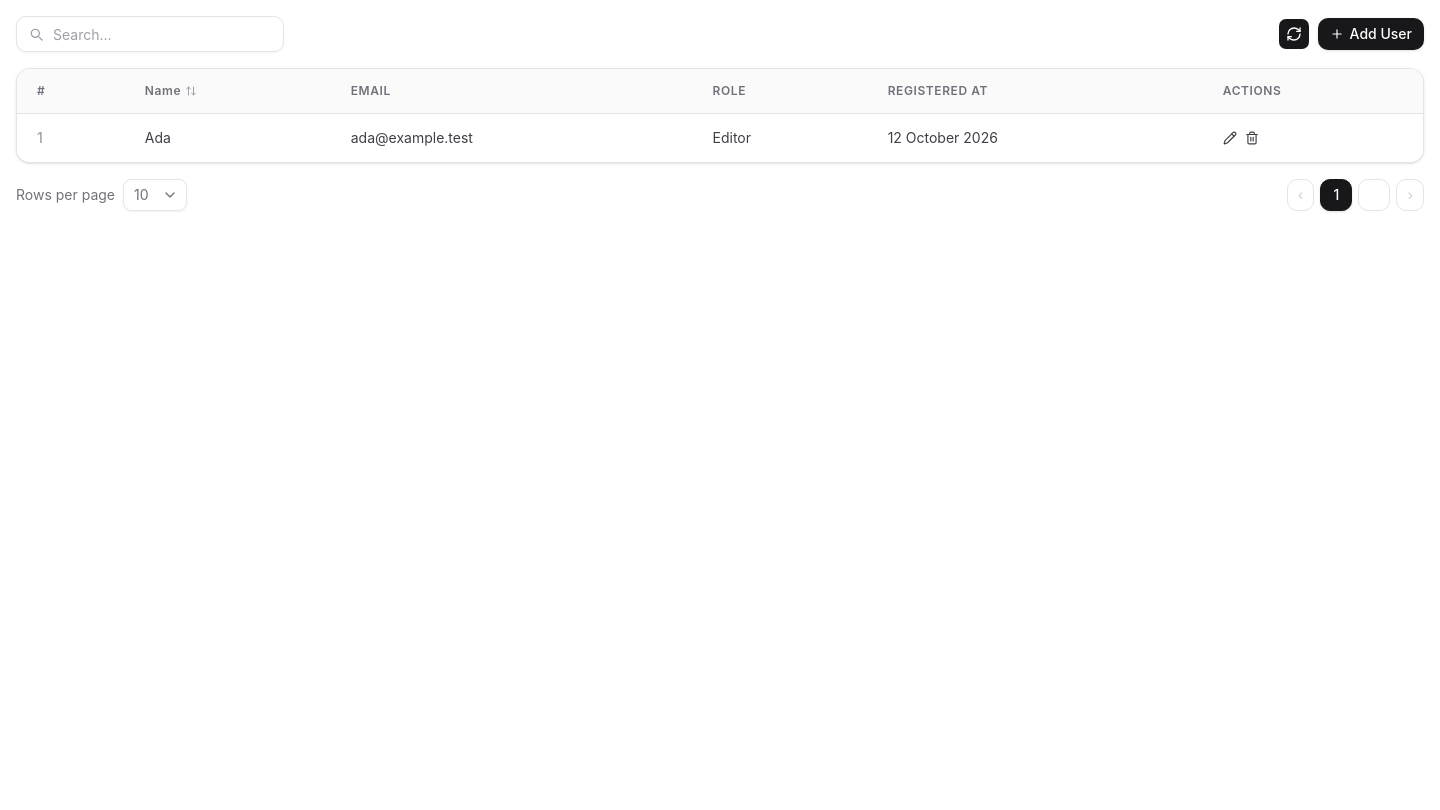
it: ViewUsers › deletes by slug, closes the dialog and reloads the list
Click the button named "Delete user" at (1252, 138), box [1245,131,1259,145]
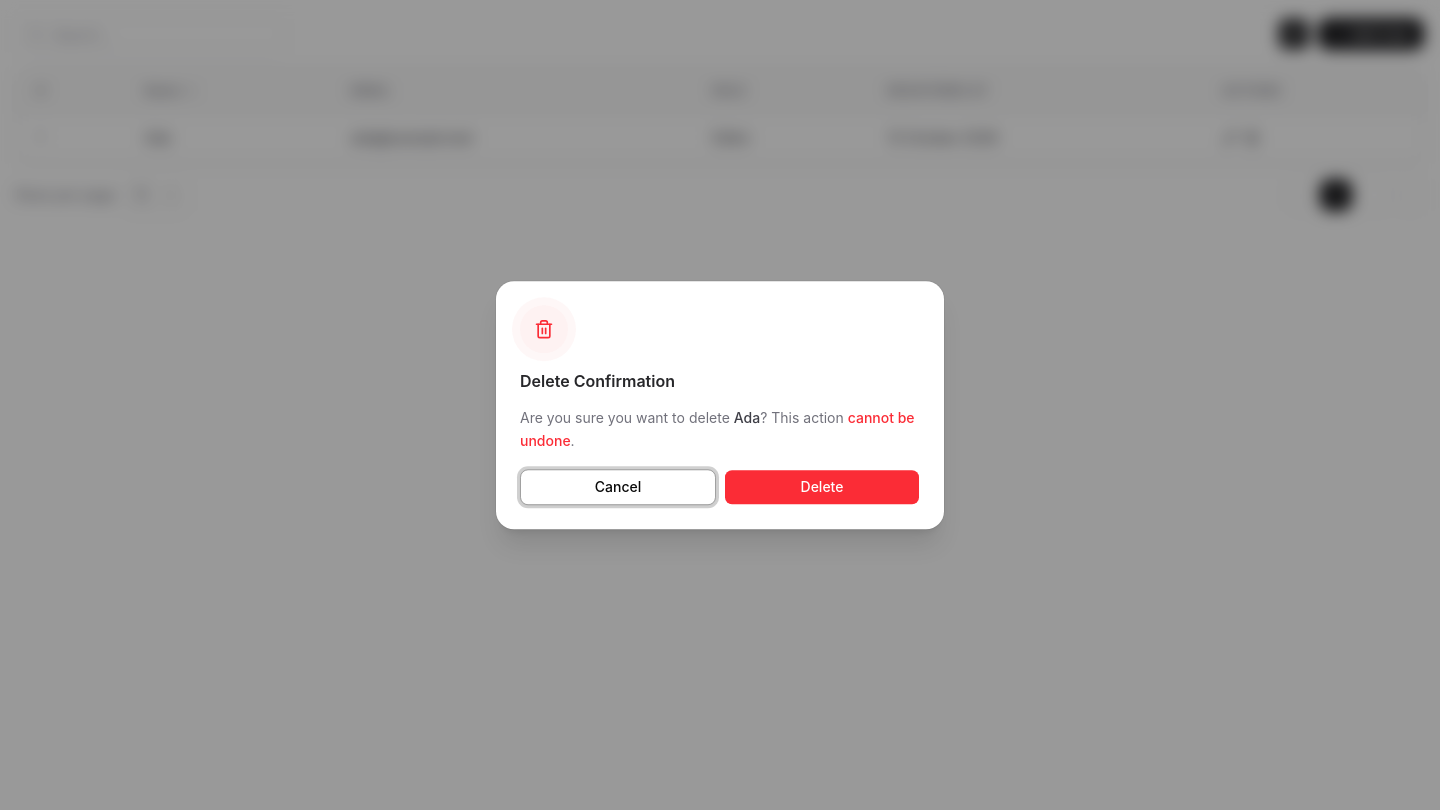
Click the button "Delete" at (822, 487), box [724,469,920,505]
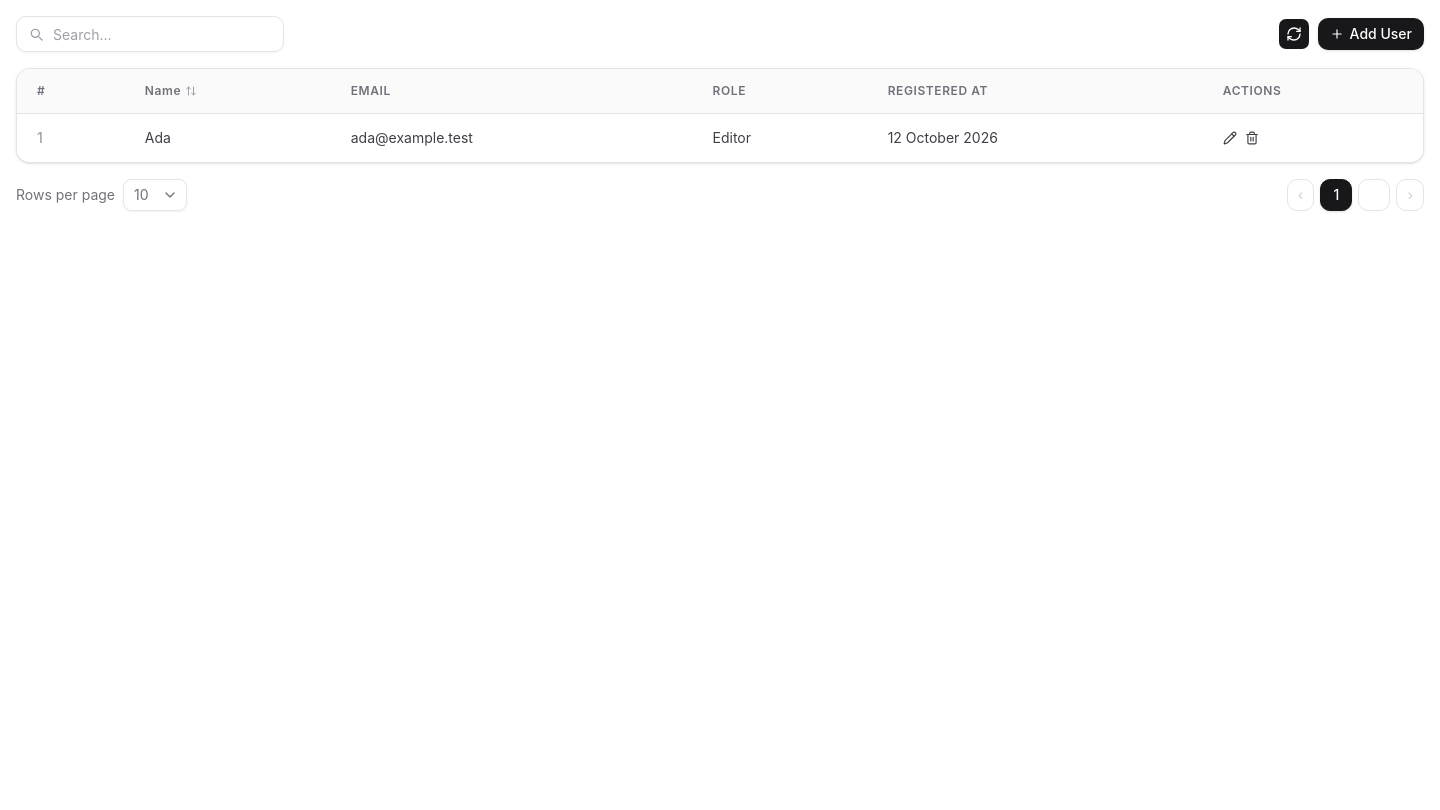
Result: the dialog is gone
